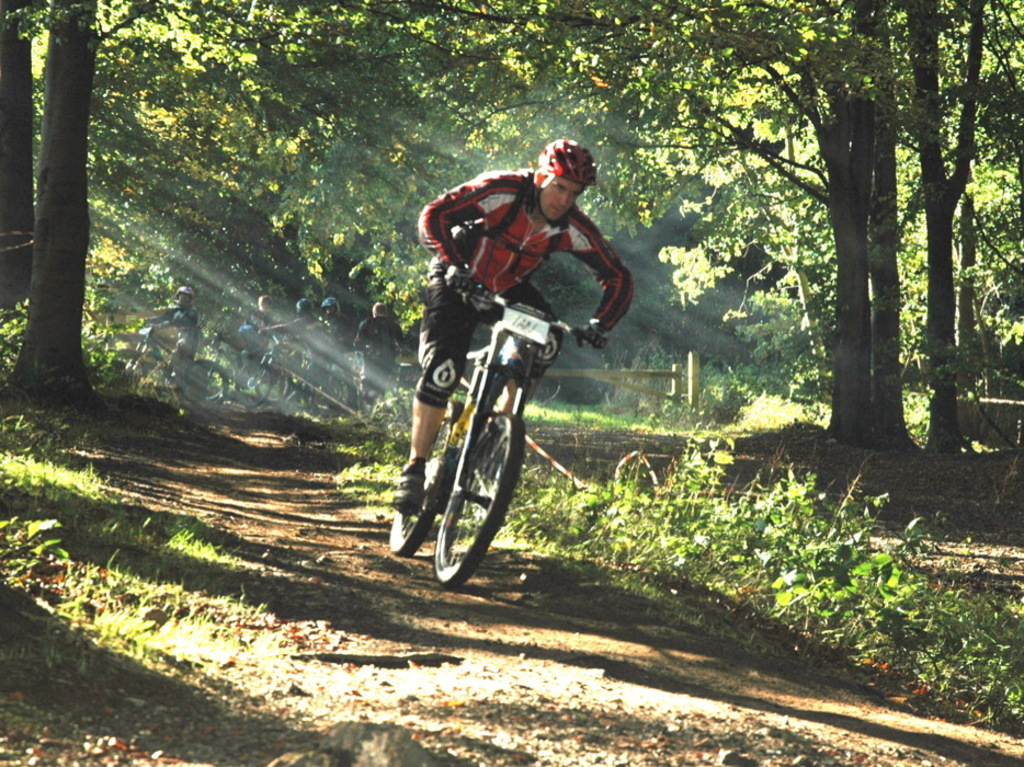Bike_toward: (361, 289, 632, 587)
